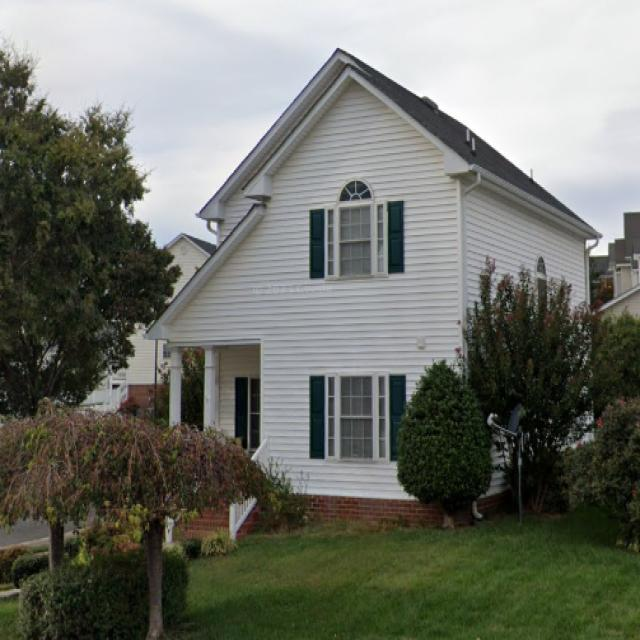House: (144, 48, 600, 531), (77, 234, 216, 415), (590, 212, 640, 328)
